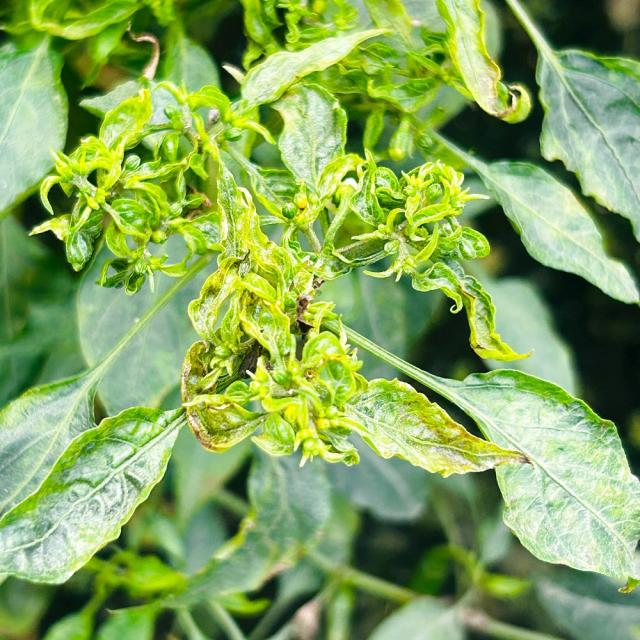Chilli_Leaf_Curl: (1, 1, 638, 607), (327, 318, 638, 592), (451, 366, 638, 589), (28, 80, 212, 294), (0, 403, 188, 586), (533, 47, 639, 242), (336, 375, 529, 478), (232, 26, 392, 112)
